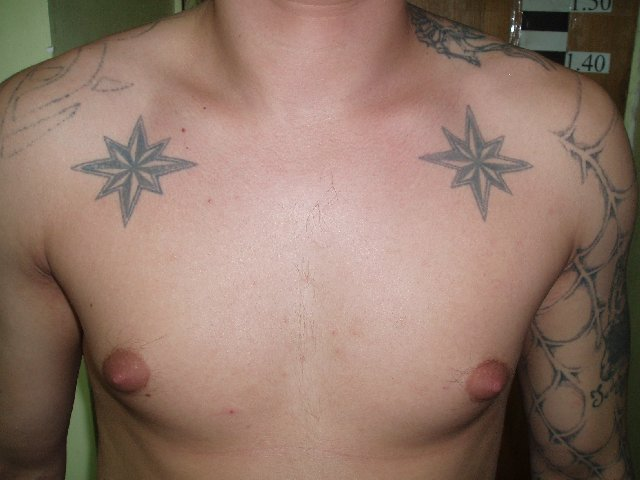tatu4_zvezda: (413, 101, 548, 225), (69, 110, 203, 233)
